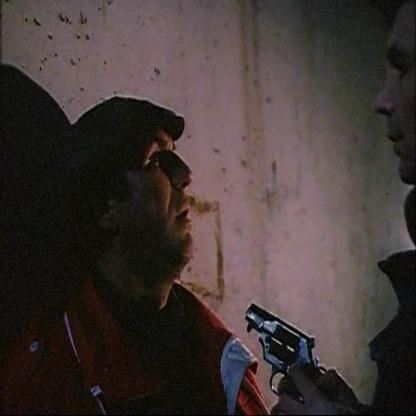gun: (239, 291, 323, 392)
